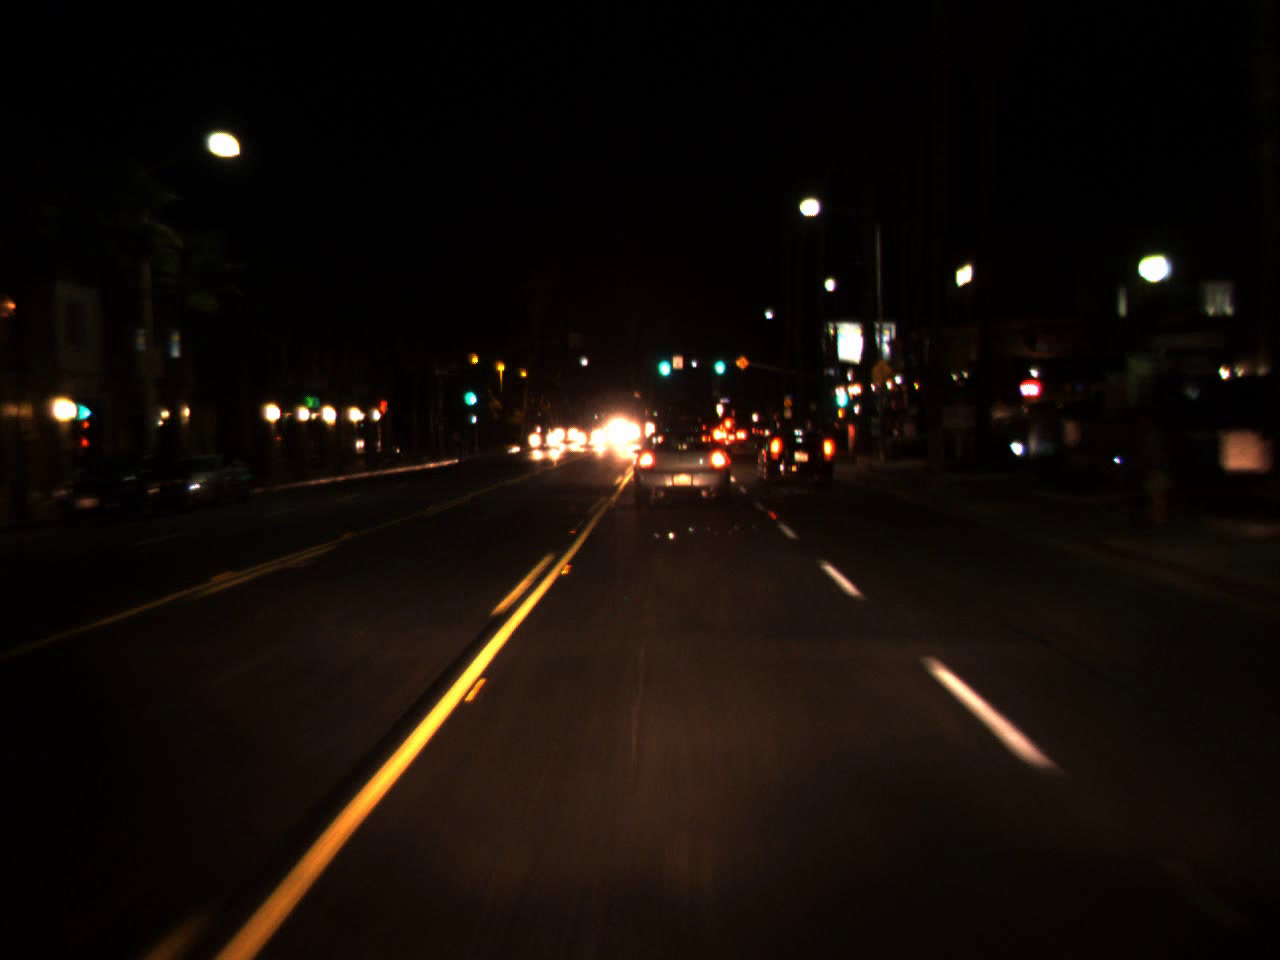go: (655, 342, 673, 381), (830, 380, 851, 410), (460, 374, 476, 410), (712, 348, 726, 375)
